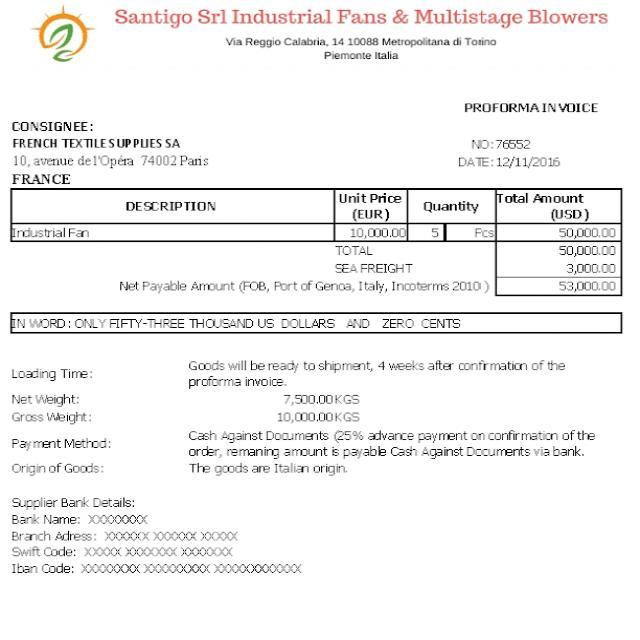customer_address: (12, 151, 217, 170)
customer_name: (5, 133, 201, 149)
invoice_date: (494, 154, 568, 170)
invoice_number: (495, 134, 536, 152)
invoice_subtotal: (558, 243, 620, 258)
invoice_total: (553, 280, 620, 295)
item_description: (10, 222, 95, 242)
item_quantity: (426, 223, 442, 241)
item_total_price: (556, 223, 623, 242)
item_unit_price: (345, 225, 407, 240)
supplier_address: (221, 36, 504, 66)
supplier_name: (106, 3, 614, 32)
